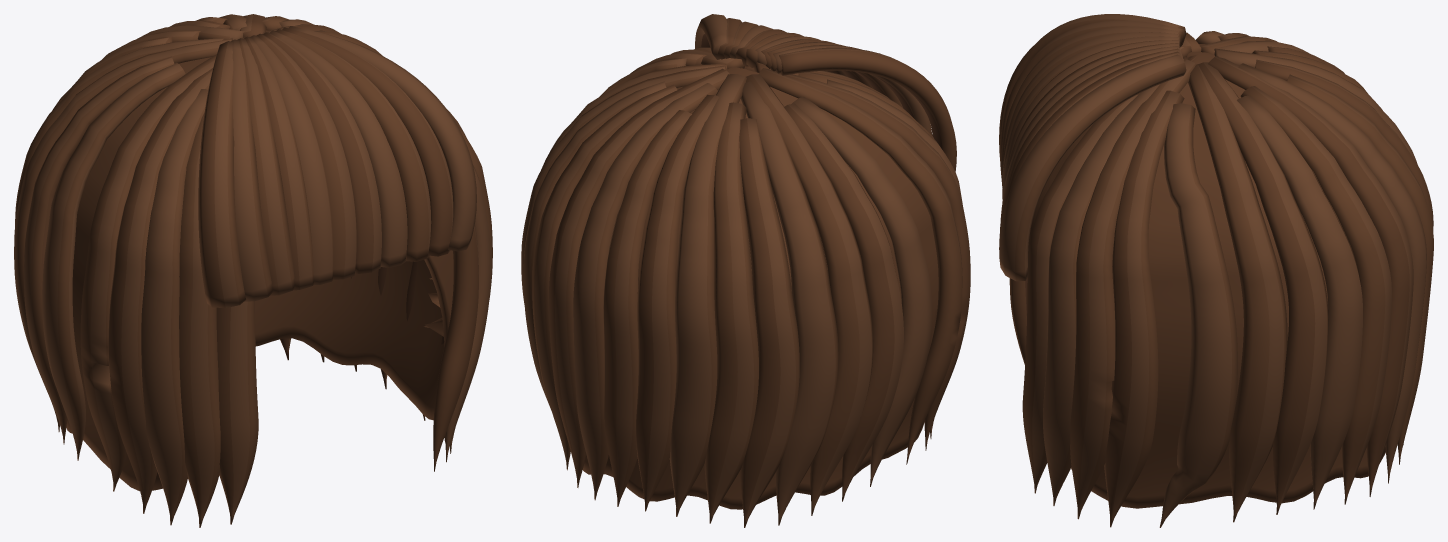
File: corte-feminino-04.glb
The picture shows the model from 3 angles, left to right: view 1: azimuth 30°, elevation 25°; view 2: azimuth 150°, elevation 25°; view 3: azimuth 270°, elevation 25°; orthographic projection. The views are drawn at different scales.
Parts seen in each view (by area): view 1: RCL_Corte_Feminino_04; view 2: RCL_Corte_Feminino_04; view 3: RCL_Corte_Feminino_04.
Part boxes in pixels (x1,y1,x2,y2): RCL_Corte_Feminino_04: [14, 14, 492, 527]; RCL_Corte_Feminino_04: [521, 14, 970, 527]; RCL_Corte_Feminino_04: [999, 14, 1433, 527].
Size of the model in its own units: 0.2432 by 0.2447 by 0.2329.
